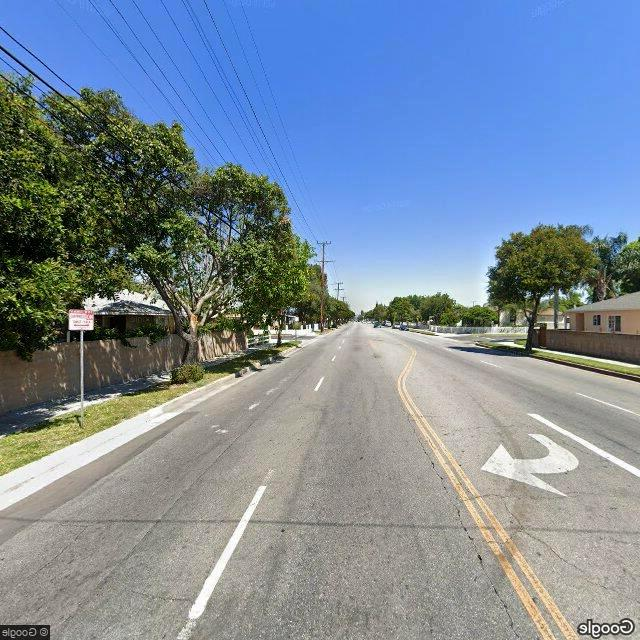crack: (426, 416, 508, 624), (504, 495, 625, 599), (453, 482, 640, 503)
